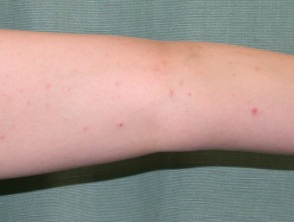Eczema: (161, 83, 195, 103), (116, 118, 139, 136), (244, 102, 263, 122)
